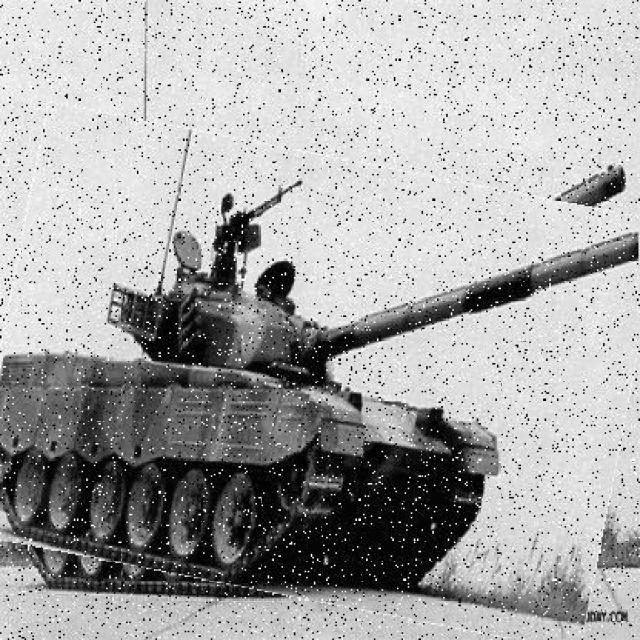Tank: (1, 130, 639, 625)
